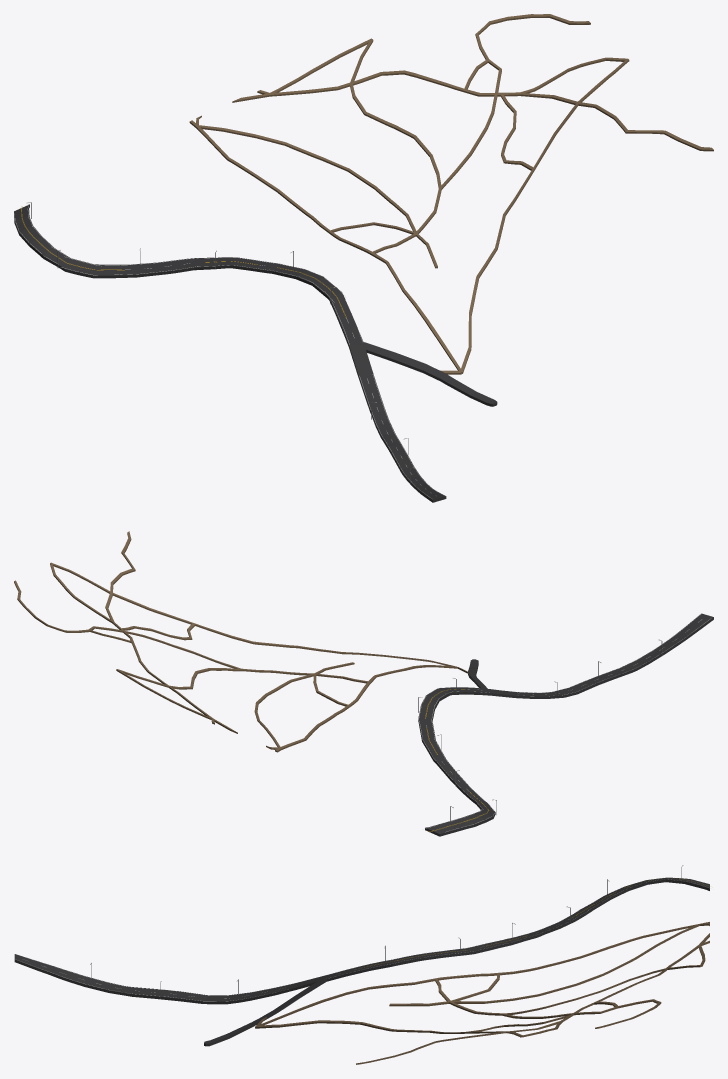
3 views of the same model, one above another, from view 1: azimuth 30°, elevation 25°; view 2: azimuth 150°, elevation 25°; view 3: azimuth 270°, elevation 25° (orthographic). The views are drawn at different scales.
Size of the model in its own units: 252 by 77.03 by 294.
